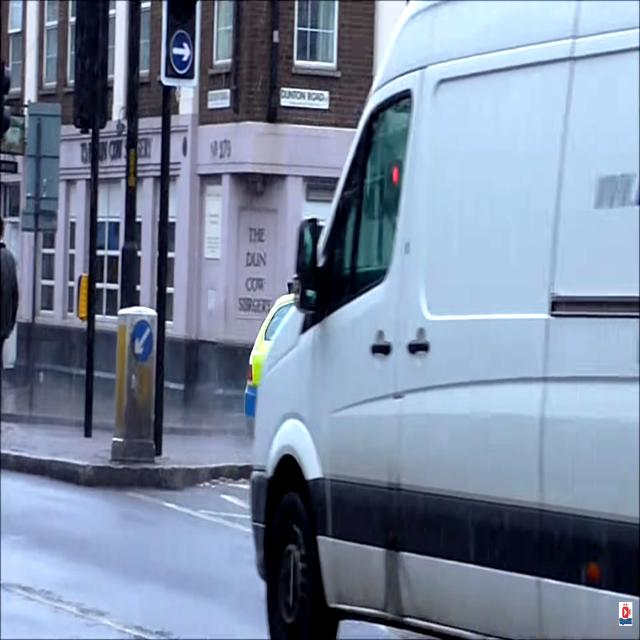emergency-vehicles: (220, 2, 640, 640)
